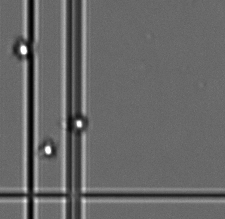Living Cell: (69, 114, 89, 133), (39, 139, 58, 158), (14, 39, 32, 59)
